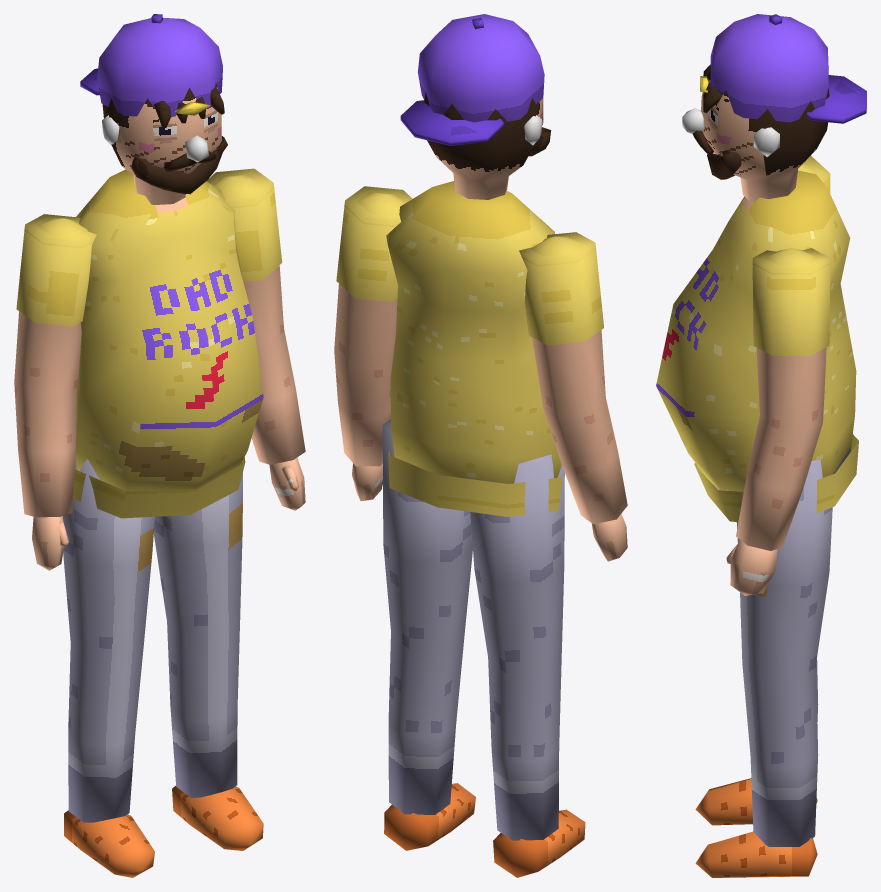
File: Dad Yellow.fbx
3 views of the same model, side by side, from view 1: azimuth 30°, elevation 25°; view 2: azimuth 150°, elevation 25°; view 3: azimuth 270°, elevation 25° (orthographic).
Parts seen in each view (by area): view 1: Dad Yellow torso, Dad Yellow leg R.001, Dad Yellow leg L.001, Dad Yellow arm R.001, Dad Yellow backwards cap crown, Dad Yellow arm L.001, Dad Yellow sleeve R, Dad Yellow head, Dad Yellow tee hem, Dad Yellow sleeve L, Dad Yellow shoe L, Dad Yellow shoe R (+3 smaller); view 2: Dad Yellow torso, Dad Yellow leg R.001, Dad Yellow leg L.001, Dad Yellow arm R.001, Dad Yellow backwards cap crown, Dad Yellow arm L.001, Dad Yellow sleeve R, Dad Yellow head, Dad Yellow sleeve L, Dad Yellow tee hem, Dad Yellow shoe R, Dad Yellow shoe L (+3 smaller); view 3: Dad Yellow torso, Dad Yellow leg L.001, Dad Yellow arm L.001, Dad Yellow backwards cap crown, Dad Yellow sleeve L, Dad Yellow head, Dad Yellow shoe L, Dad Yellow tee hem, Dad Yellow shoe R, Dad Yellow hand L, Dad Yellow backwards cap bill, Dad Yellow beard (+2 smaller).
Boxes of the visible parts, box(x1,y1,x2,y2) form: Dad Yellow torso: box(75, 169, 263, 491); Dad Yellow leg R.001: box(63, 455, 154, 822); Dad Yellow leg L.001: box(153, 473, 242, 797); Dad Yellow arm R.001: box(14, 218, 93, 517); Dad Yellow backwards cap crown: box(97, 18, 222, 117); Dad Yellow arm L.001: box(213, 174, 305, 464); Dad Yellow sleeve R: box(16, 214, 96, 326); Dad Yellow head: box(102, 82, 221, 204); Dad Yellow tee hem: box(73, 457, 245, 518); Dad Yellow sleeve L: box(206, 168, 282, 281); Dad Yellow shoe L: box(172, 786, 263, 850); Dad Yellow shoe R: box(64, 810, 154, 877); Dad Yellow torso: box(386, 181, 561, 483); Dad Yellow leg R.001: box(470, 454, 564, 840); Dad Yellow leg L.001: box(382, 419, 472, 814); Dad Yellow arm R.001: box(521, 236, 627, 524); Dad Yellow backwards cap crown: box(417, 14, 544, 122); Dad Yellow arm L.001: box(334, 192, 405, 466); Dad Yellow sleeve R: box(519, 232, 603, 345); Dad Yellow head: box(424, 92, 543, 199); Dad Yellow sleeve L: box(336, 186, 412, 301); Dad Yellow tee hem: box(388, 450, 562, 516); Dad Yellow shoe R: box(493, 809, 585, 877); Dad Yellow shoe L: box(384, 783, 475, 850); Dad Yellow torso: box(656, 170, 856, 491); Dad Yellow leg L.001: box(736, 459, 832, 846); Dad Yellow arm L.001: box(736, 248, 830, 550); Dad Yellow backwards cap crown: box(710, 14, 828, 122); Dad Yellow sleeve L: box(752, 248, 830, 355); Dad Yellow head: box(701, 66, 829, 202); Dad Yellow shoe L: box(695, 831, 817, 877); Dad Yellow tee hem: box(694, 434, 858, 522); Dad Yellow shoe R: box(695, 778, 817, 825); Dad Yellow hand L: box(730, 539, 777, 595); Dad Yellow backwards cap bill: box(807, 75, 866, 123); Dad Yellow beard: box(707, 151, 741, 179).
Bounding box in the file's own units: 0.6144 × 1.79 × 0.4114.
16 materials, 14 textured.
